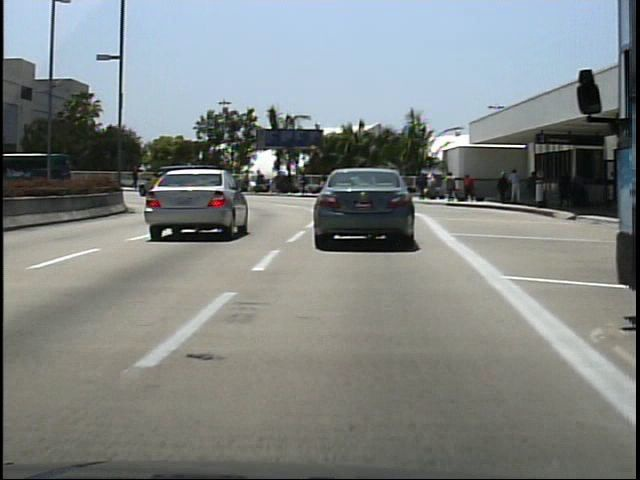person: (573, 169, 592, 217), (554, 164, 573, 211), (507, 167, 523, 207), (461, 172, 478, 207), (524, 169, 540, 206), (495, 170, 511, 206), (445, 169, 459, 203), (415, 171, 429, 202), (130, 162, 144, 192), (196, 169, 212, 194)
